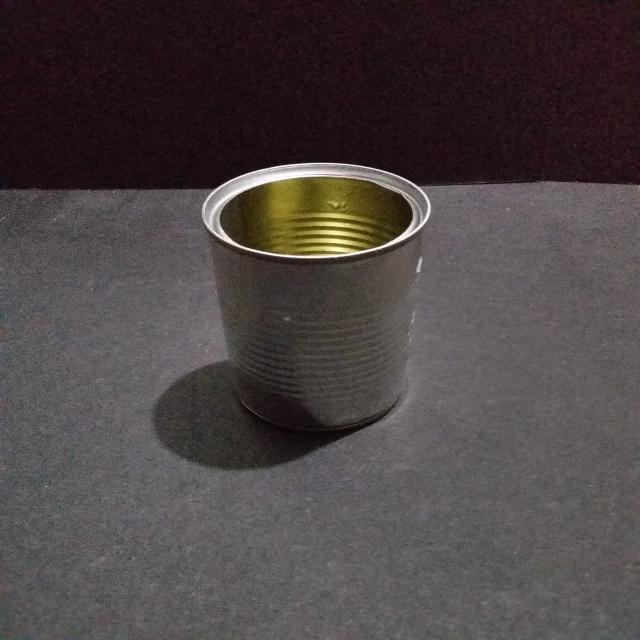metal-can: (193, 158, 435, 438)
